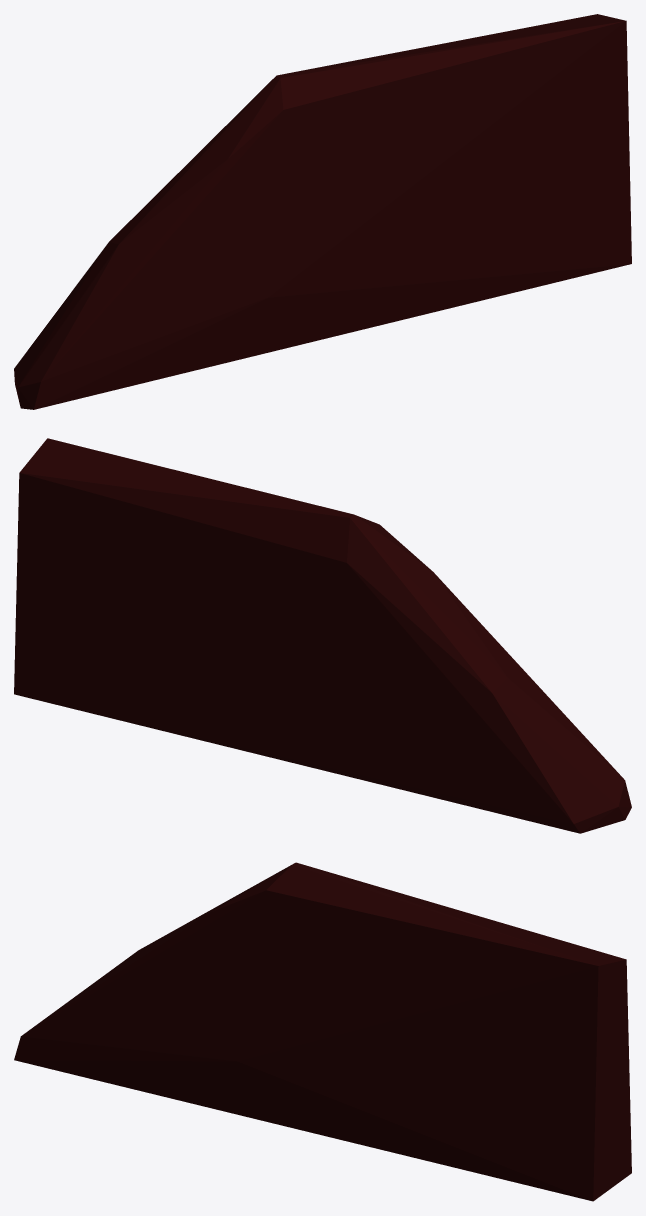
The model's file is UCX_Castle_Wall_B.fbx.
3 renders of one model, top to bottom at view 1: azimuth 30°, elevation 25°; view 2: azimuth 150°, elevation 25°; view 3: azimuth 330°, elevation 25°, orthographic. The views are drawn at different scales.
Parts seen in each view (by area): view 1: UCX_Castle_Wall_B; view 2: UCX_Castle_Wall_B; view 3: UCX_Castle_Wall_B.
Boxes of the visible parts, x1,y1,x2,y2 form: UCX_Castle_Wall_B: (14,14,631,409); UCX_Castle_Wall_B: (14,438,631,833); UCX_Castle_Wall_B: (14,862,631,1201).
Bounding box in the file's own units: 1938 × 792 × 235.
